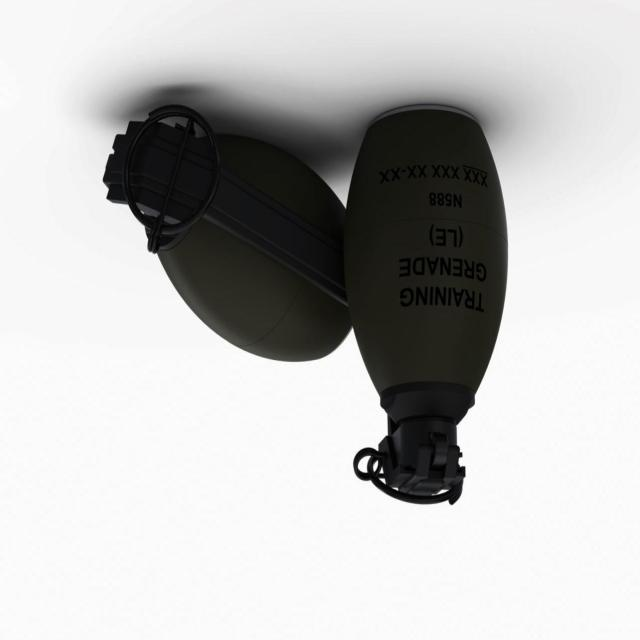grenade: (346, 105, 509, 507), (104, 105, 352, 363)
